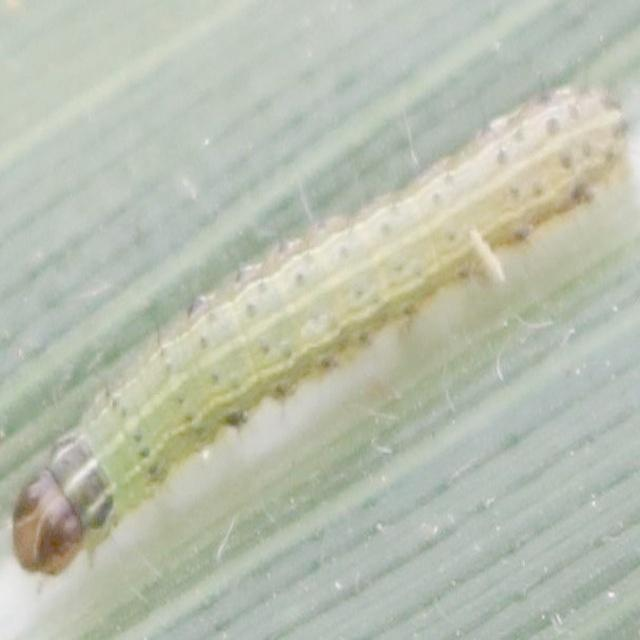gusano_cogollero: (11, 68, 638, 579)
